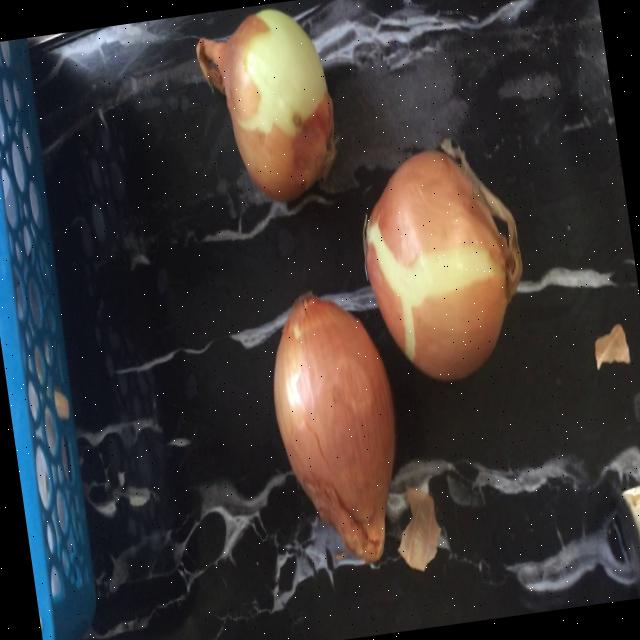Onion: (365, 150, 520, 380), (273, 295, 394, 562), (195, 8, 334, 200)
